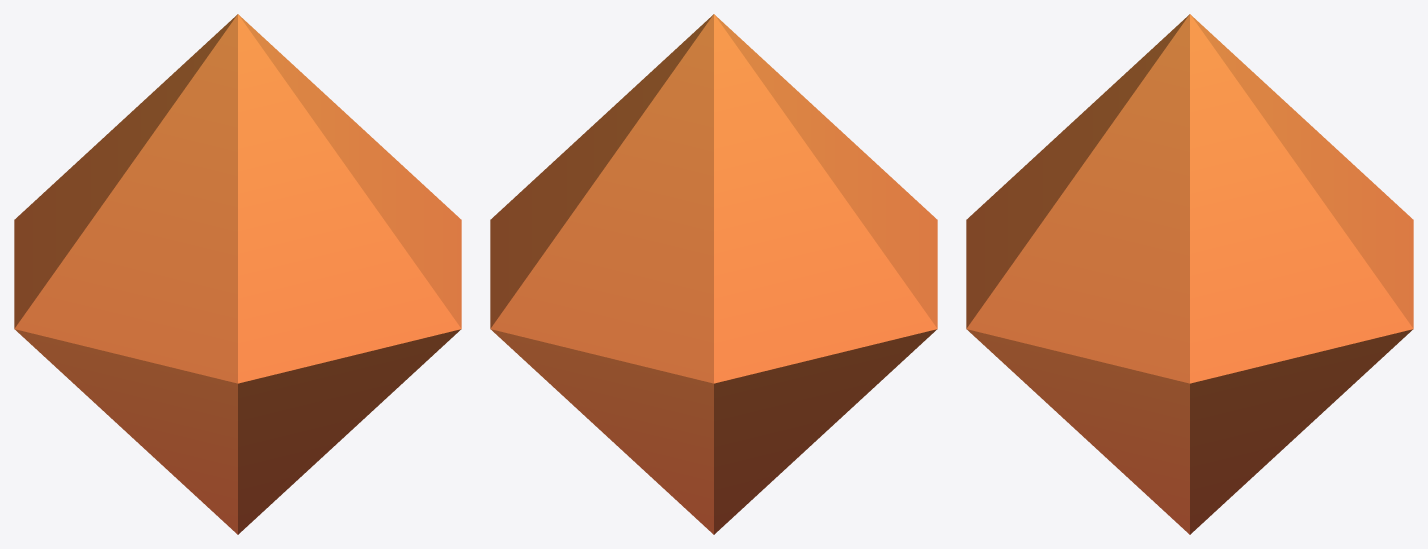
The model's file is jewel.glb.
3 views of the same model, side by side, from view 1: azimuth 30°, elevation 25°; view 2: azimuth 150°, elevation 25°; view 3: azimuth 270°, elevation 25° (orthographic).
Parts seen in each view (by area): view 1: jewel; view 2: jewel; view 3: jewel.
Part boxes in pixels (left/top/right/bottom): jewel: left=14, top=14, right=461, bottom=534; jewel: left=490, top=14, right=937, bottom=534; jewel: left=966, top=14, right=1413, bottom=534.
Size of the model in its own units: 0.3329 by 0.3705 by 0.2883.
